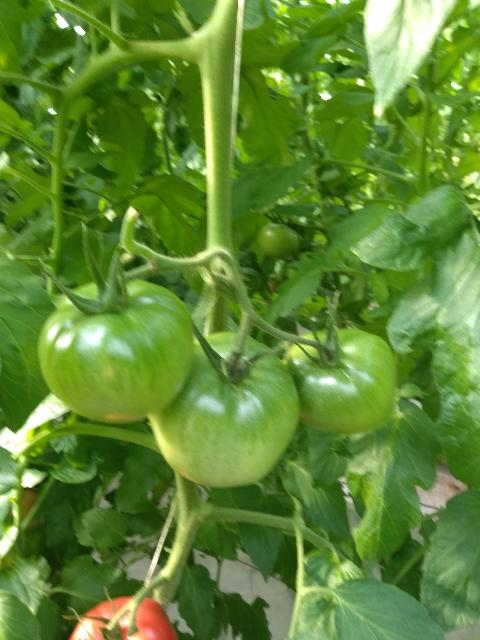b_fully_ripened: (69, 595, 178, 640)
b_green: (38, 276, 195, 426), (150, 330, 299, 488), (282, 329, 398, 434)
